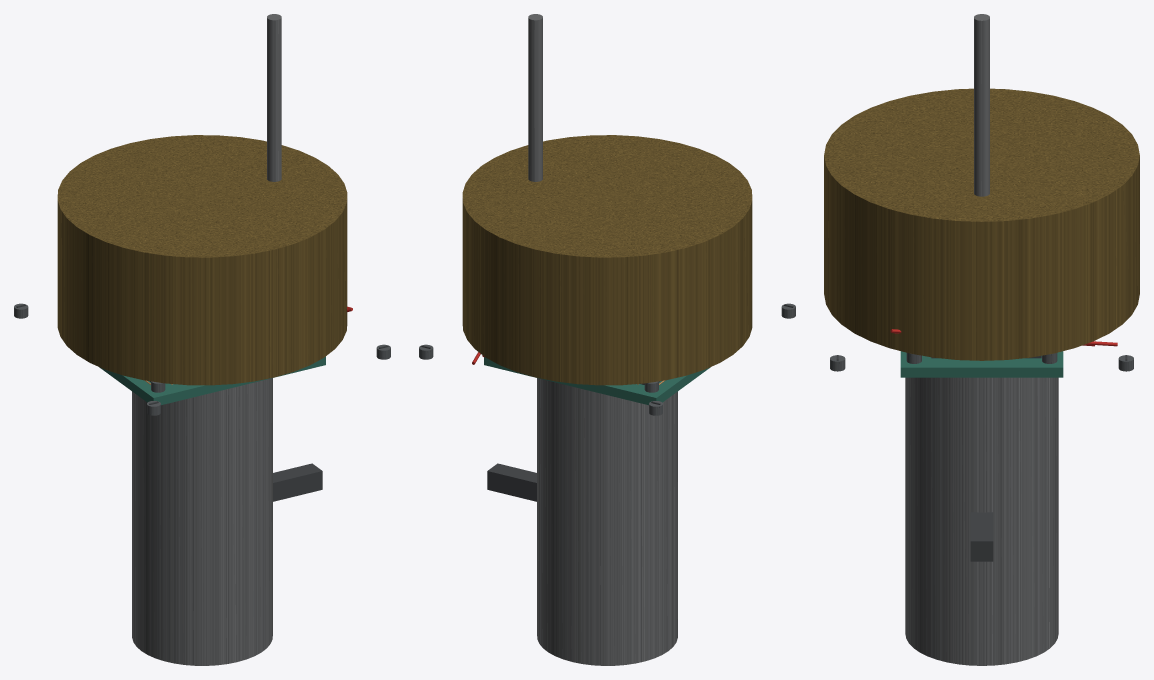
The model's file is ds2-schematic.glb.
3 renders of one model, left to right at view 1: azimuth 30°, elevation 25°; view 2: azimuth 150°, elevation 25°; view 3: azimuth 270°, elevation 25°, orthographic. The views are drawn at different scales.
Visible parts, largest first — view 1: aftbody, forebody, antenna, Avionics board, drill; view 2: aftbody, forebody, antenna, Avionics board, drill; view 3: aftbody, forebody, Avionics board, antenna, drill.
Boxes of the visible parts, box(x1,y1,x2,y2) form: aftbody: box(57, 135, 347, 385); forebody: box(132, 378, 272, 665); antenna: box(267, 14, 281, 181); Avionics board: box(99, 356, 325, 405); drill: box(273, 463, 322, 501); aftbody: box(462, 135, 752, 385); forebody: box(537, 378, 677, 665); antenna: box(528, 14, 542, 181); Avionics board: box(484, 357, 710, 405); drill: box(487, 463, 536, 501); aftbody: box(824, 88, 1139, 360); forebody: box(905, 377, 1058, 665); Avionics board: box(900, 351, 1063, 377); antenna: box(974, 14, 989, 196); drill: box(970, 512, 993, 561).
Bounding box in the file's own units: 0.7 × 1.6 × 0.7.
Materials: 7 (3 with a texture image).
